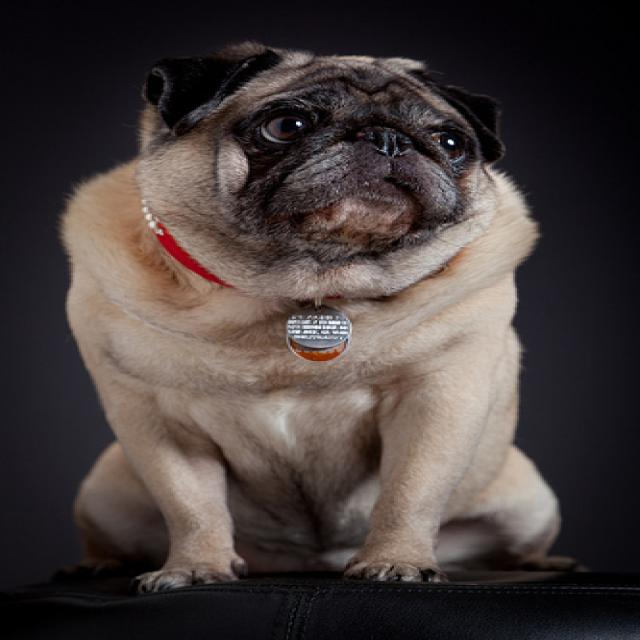dog-pug: (44, 29, 596, 599)
